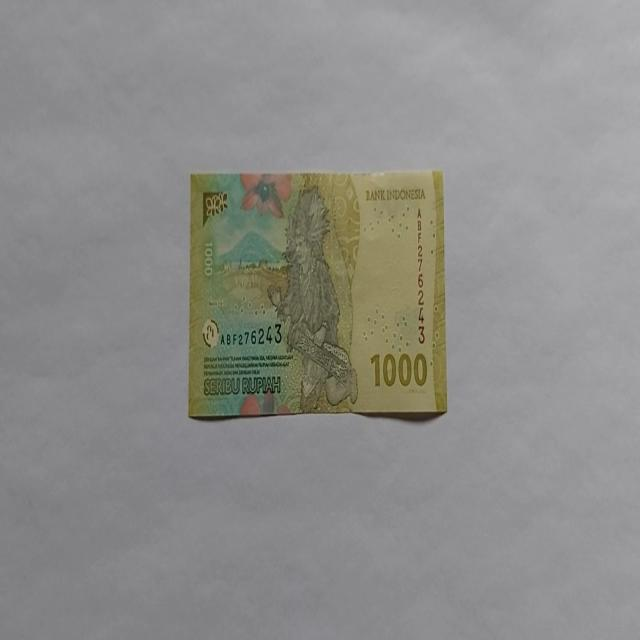seribu rupiah kertas: (188, 168, 448, 420)
